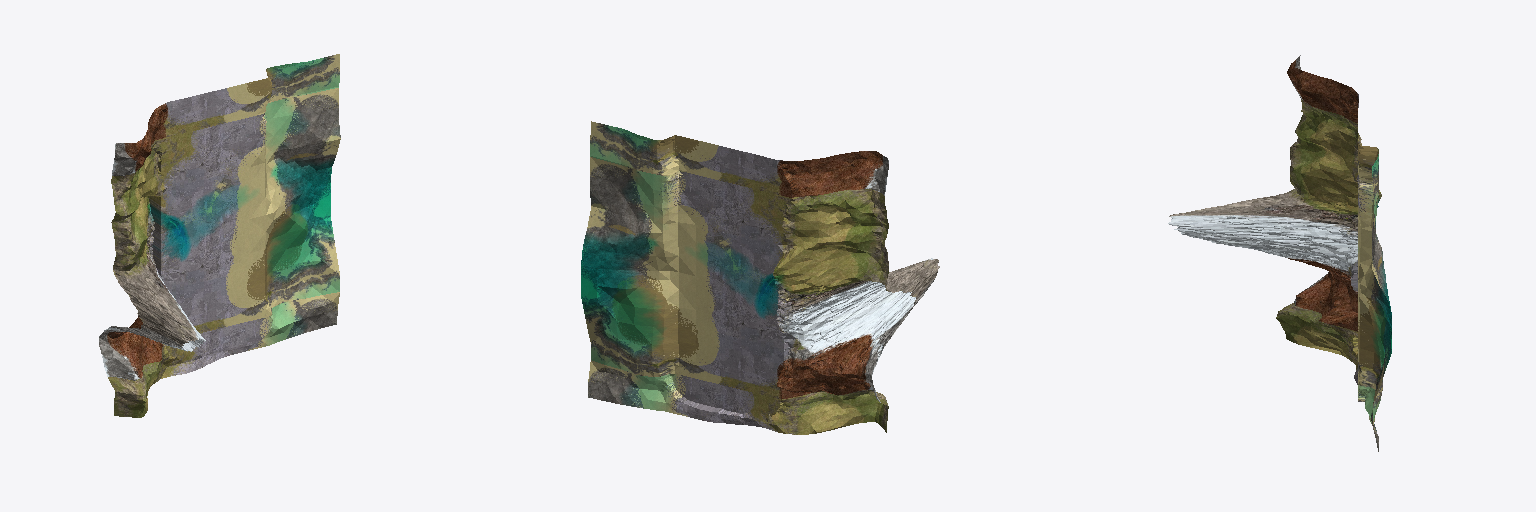
The picture shows the model from 3 angles: view 1: azimuth 30°, elevation 25°; view 2: azimuth 150°, elevation 25°; view 3: azimuth 270°, elevation 25°; orthographic projection.
Parts seen in each view (by area): view 1: terrain_g; view 2: terrain_g; view 3: terrain_g.
Part boxes in pixels (x1,y1,x2,y2): terrain_g: (99,54,340,417); terrain_g: (581,121,939,434); terrain_g: (1168,55,1391,451).
Bounding box in the file's own units: 511 × 511 × 380.
Materials: 1 (1 with a texture image).